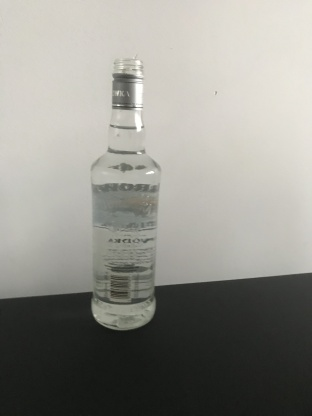nakretka: (109, 55, 144, 113)
